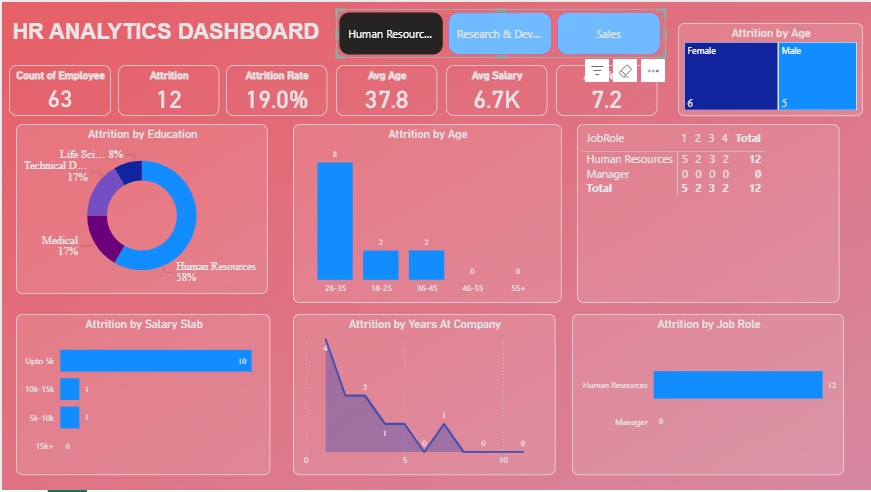

This screenshot's page, from the dashboard's own definition file:
{"tool":"powerbi","page":{"name":"Page 1","canvas":[1280,720],"ordinal":0},"visuals":[{"type":"card","title":"Count of Employee","fields":{"Values":["Count(HR_Analytics.EmpID)"]},"box":[10.1,92.5,150.4,75.2],"z":0},{"type":"card","title":"Attrition","fields":{"Values":["Sum(HR_Analytics.AttritionCount)"]},"box":[170.6,92.5,148.9,75.2],"z":1000},{"type":"card","title":"Attrition Rate","fields":{"Values":["HR_Analytics.AttitionRate"]},"box":[329.6,92.5,148.9,75.2],"z":2000},{"type":"card","title":"Avg Age","fields":{"Values":["Avg(HR_Analytics.Age)"]},"box":[491.6,92.5,148.9,75.2],"z":3000},{"type":"card","title":"Avg Salary","fields":{"Values":["Avg(HR_Analytics.MonthlyIncome)"]},"box":[653.5,92.5,148.9,75.2],"z":4000},{"type":"card","title":"Avg Years ","fields":{"Values":["Avg(HR_Analytics.YearsAtCompany)"]},"box":[814,92.5,148.9,75.2],"z":5000},{"type":"donutChart","title":"Attrition by Education","fields":{"Category":["HR_Analytics.EducationField"],"Y":["Sum(HR_Analytics.AttritionCount)"]},"box":[20.2,179.3,370.1,250.1],"z":6000},{"type":"columnChart","title":"Attrition by Age","fields":{"Y":["Sum(HR_Analytics.AttritionCount)"],"Category":["HR_Analytics.AgeGroup"]},"box":[428,179.3,394.7,263.1],"z":7000},{"type":"pivotTable","fields":{"Rows":["HR_Analytics.JobRole"],"Columns":["HR_Analytics.JobSatisfaction"],"Values":["Sum(HR_Analytics.AttritionCount)"]},"box":[845.8,179.3,386,263.1],"z":8000},{"type":"barChart","title":"Attrition by Salary Slab","fields":{"Category":["HR_Analytics.SalarySlab"],"Y":["Sum(HR_Analytics.AttritionCount)"]},"box":[20.2,458.3,374.5,237.1],"z":9000},{"type":"barChart","title":"Attrition by Job Role","fields":{"Y":["Sum(HR_Analytics.AttritionCount)"],"Category":["HR_Analytics.JobRole"]},"box":[838.6,458.3,400.5,237.1],"z":10000},{"type":"areaChart","title":"Attrition by Years At Company","fields":{"Y":["Sum(HR_Analytics.AttritionCount)"],"Category":["HR_Analytics.YearsAtCompany"]},"box":[428,458.3,386,237.1],"z":11000},{"type":"treemap","title":"Attrition by Age","fields":{"Values":["Sum(HR_Analytics.AttritionCount)"],"Group":["HR_Analytics.Gender"]},"box":[994.7,30.4,271.8,137.3],"z":12000},{"type":"advancedSlicerVisual","fields":{"Values":["HR_Analytics.Department"]},"box":[491.6,10.1,484.3,72.3],"z":13000},{"type":"textbox","box":[10.1,20.2,467,52],"z":13001}]}

Visuals, with their boxes in screenshot pixels (x1, y1, x2, y2), scaled from the page's 1280x720 canvas onto the 871x492 screenshot:
"Count of Employee" card: detection(7, 63, 109, 115)
"Attrition" card: detection(116, 63, 217, 115)
"Attrition Rate" card: detection(224, 63, 326, 115)
"Avg Age" card: detection(335, 63, 436, 115)
"Avg Salary" card: detection(445, 63, 546, 115)
"Avg Years " card: detection(554, 63, 655, 115)
"Attrition by Education" donutChart: detection(14, 123, 266, 293)
"Attrition by Age" columnChart: detection(291, 123, 560, 302)
pivotTable - HR_Analytics.JobRole x HR_Analytics.JobSatisfaction: detection(576, 123, 838, 302)
"Attrition by Salary Slab" barChart: detection(14, 313, 269, 475)
"Attrition by Job Role" barChart: detection(571, 313, 843, 475)
"Attrition by Years At Company" areaChart: detection(291, 313, 554, 475)
"Attrition by Age" treemap: detection(677, 21, 862, 115)
advancedSlicerVisual - HR_Analytics.Department: detection(335, 7, 664, 56)
textbox: detection(7, 14, 325, 49)
